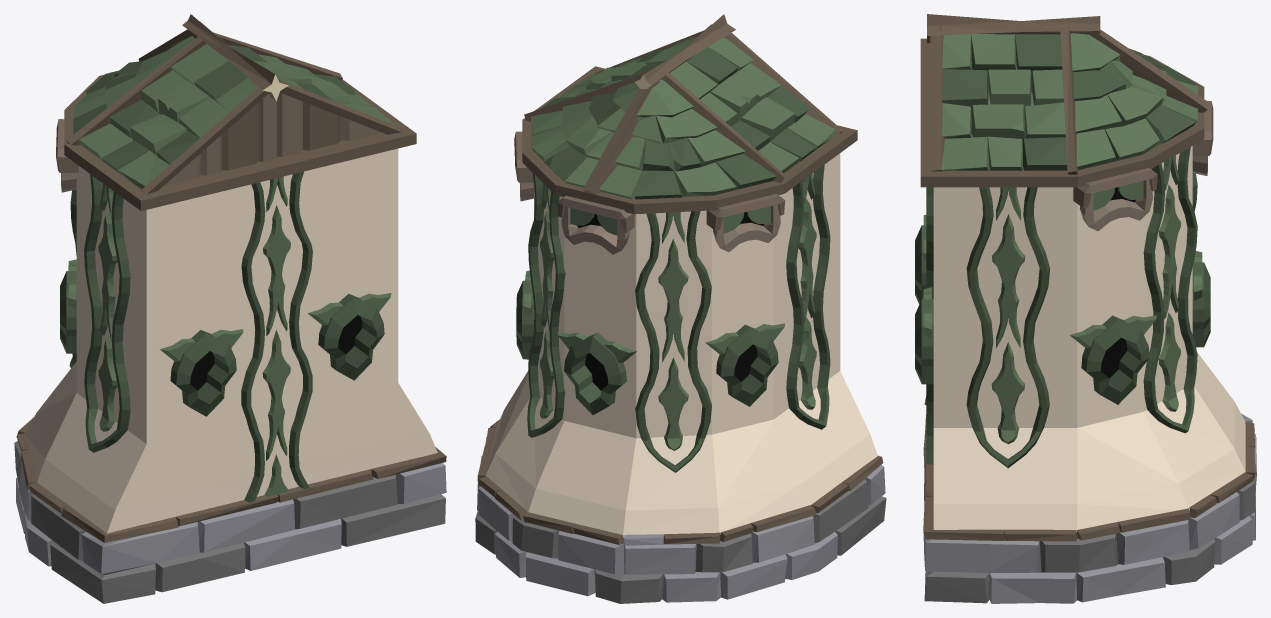
Rendered from fortress_full.fbx.
3 views of the same model, side by side, from view 1: azimuth 30°, elevation 25°; view 2: azimuth 150°, elevation 25°; view 3: azimuth 270°, elevation 25° (orthographic). The views are drawn at different scales.
Visible parts, largest first — view 1: FORTRESS_ROOF_01, FPRTRESS_OSNOVA_01, FORTRESSS_BASE_01; view 2: FORTRESS_ROOF_01, FPRTRESS_OSNOVA_01, FORTRESSS_BASE_01; view 3: FORTRESS_ROOF_01, FPRTRESS_OSNOVA_01, FORTRESSS_BASE_01.
Part boxes in pixels (box(x1,y1,x2,y2)): FORTRESS_ROOF_01: box(56, 14, 416, 319); FPRTRESS_OSNOVA_01: box(14, 357, 446, 603); FORTRESSS_BASE_01: box(60, 232, 398, 443); FORTRESS_ROOF_01: box(514, 14, 857, 321); FPRTRESS_OSNOVA_01: box(475, 371, 886, 603); FORTRESSS_BASE_01: box(516, 252, 840, 440); FORTRESS_ROOF_01: box(920, 14, 1213, 303); FPRTRESS_OSNOVA_01: box(923, 352, 1256, 603); FORTRESSS_BASE_01: box(915, 214, 1210, 431).
Size of the model in its own units: 670 by 898 by 553.
